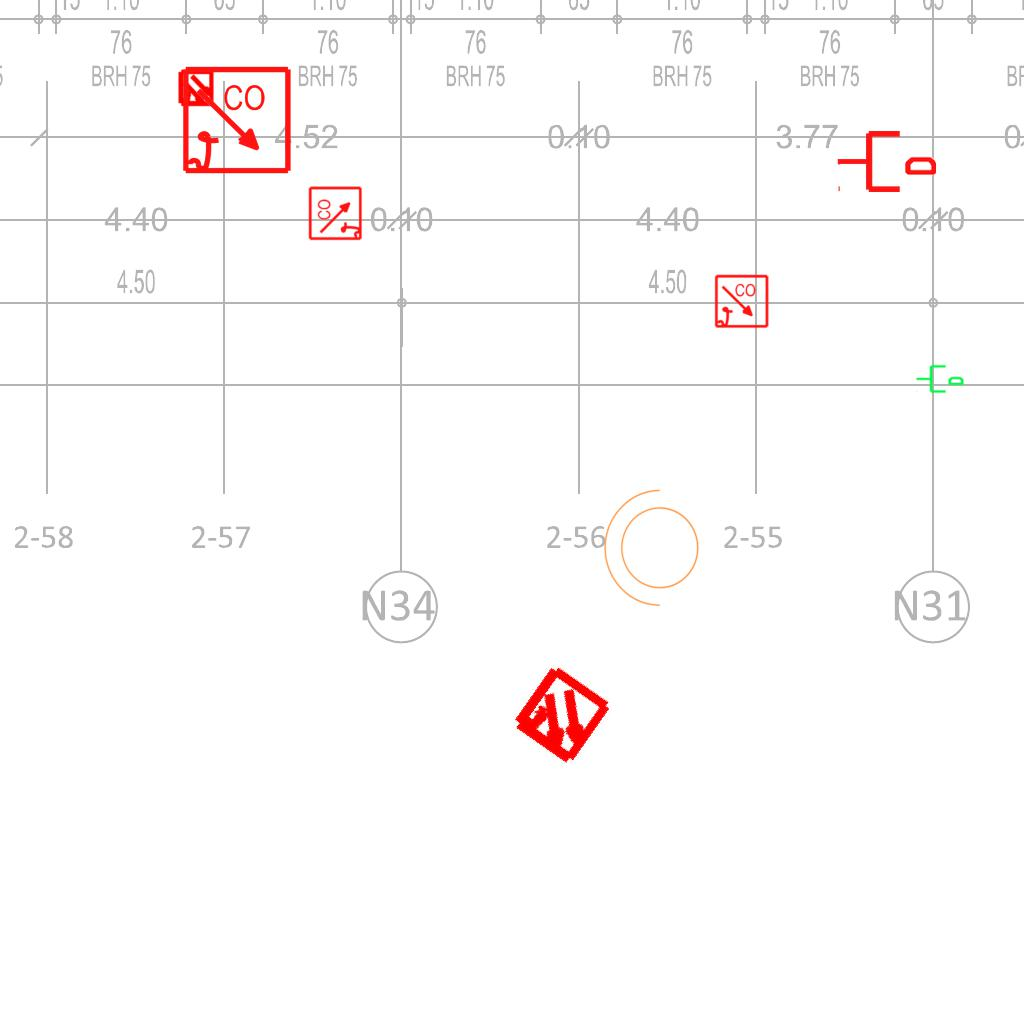Datenanschluss_einfach: (836, 127, 936, 196), (915, 361, 965, 395)
OT_Multisensormelder_(Kombination_RMO_WMD): (481, 637, 640, 796), (168, 61, 224, 117)
ROA_Rauchmelder_optisch_mit_Signalgeber_(Sockelsirene): (181, 65, 294, 178), (714, 274, 770, 330), (308, 185, 364, 241)
Scheinwerfer_fuer_Alarmbeleuchtung: (599, 485, 711, 617)
